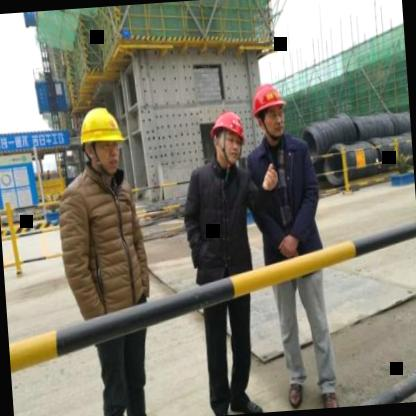helmet: (74, 104, 128, 180), (207, 104, 249, 172), (248, 80, 290, 142)
